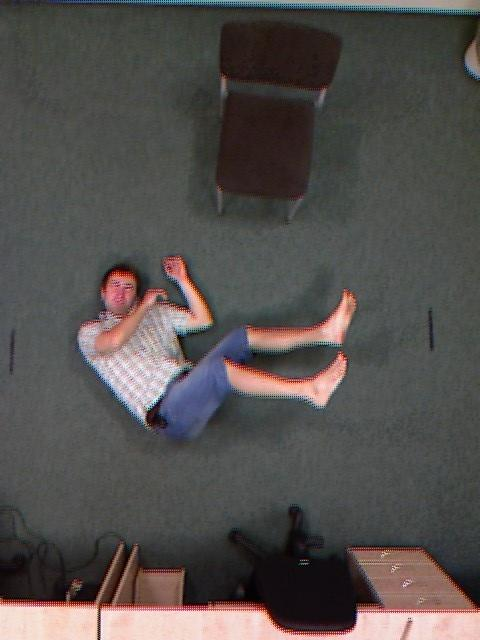fall: (138, 157, 294, 542)
